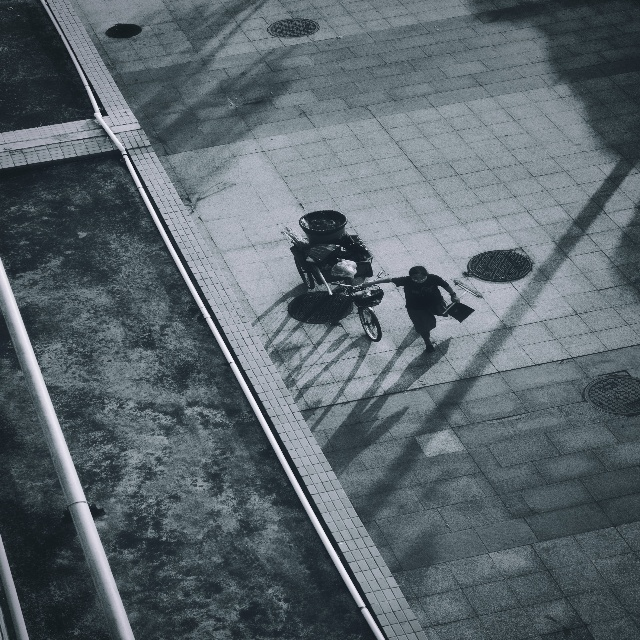Mascara: (410, 276, 427, 284)
Sin_guantes: (451, 294, 460, 304), (362, 281, 370, 287)
